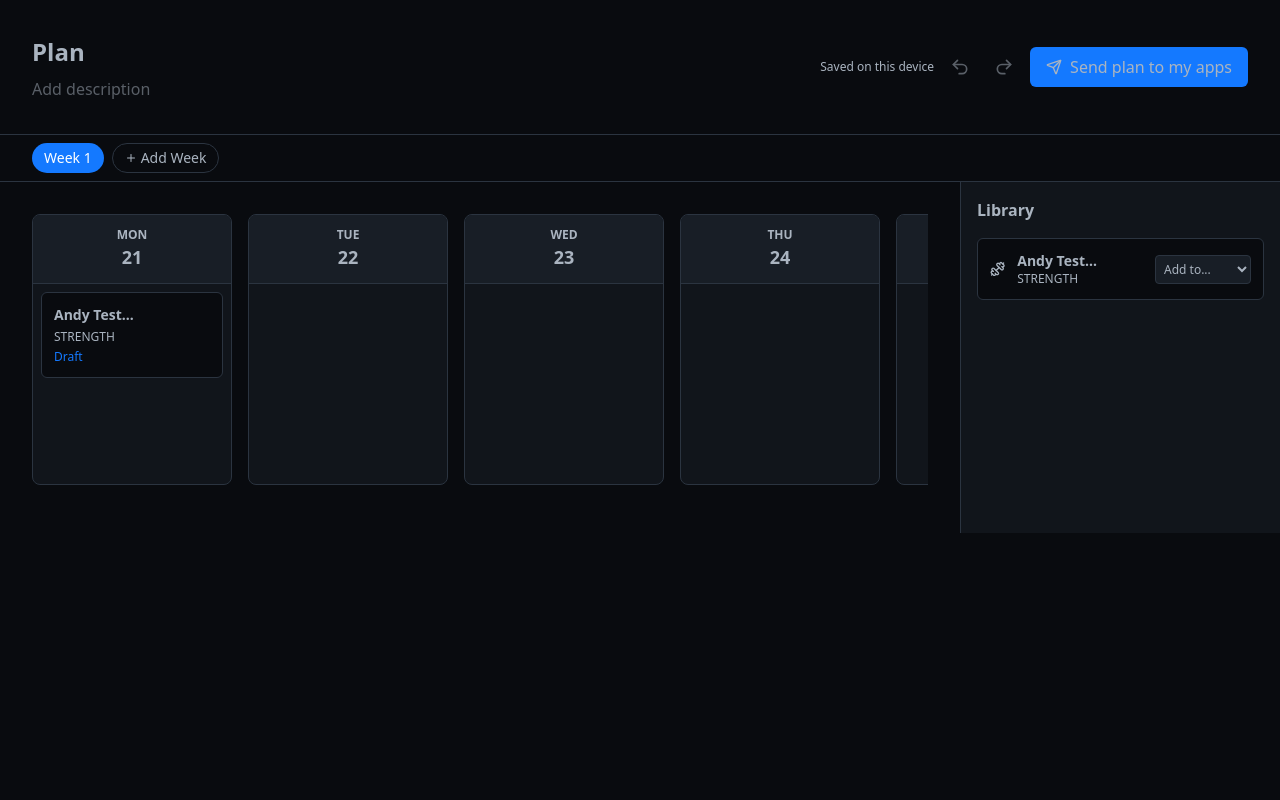
Test: Plan Send journey › keeps transient delivery failures retryable
Expected: the field showing "Plan" is shown, [32, 32, 631, 73]
Click the button "Send plan to my apps" at point(1139, 67), box [1030, 47, 1248, 87]
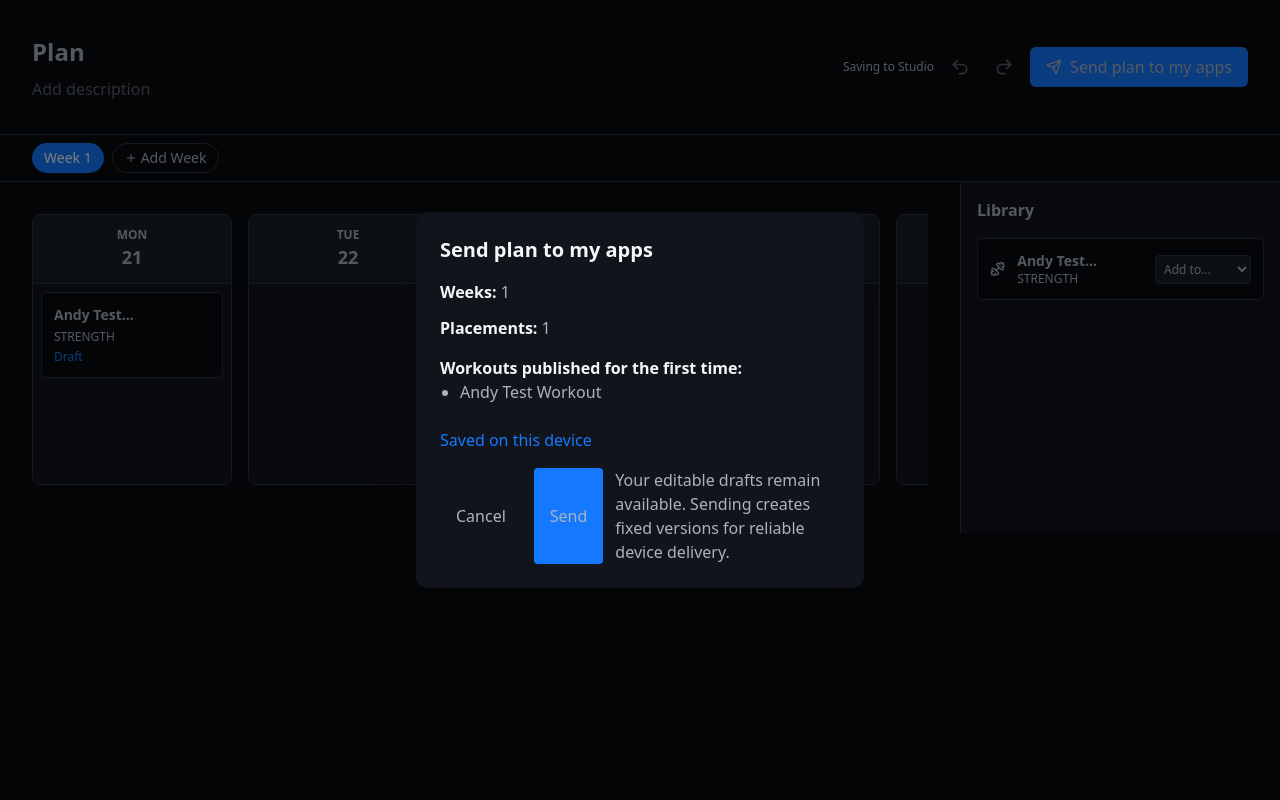
Click the button "Send" at point(569, 516), box [534, 468, 603, 564]
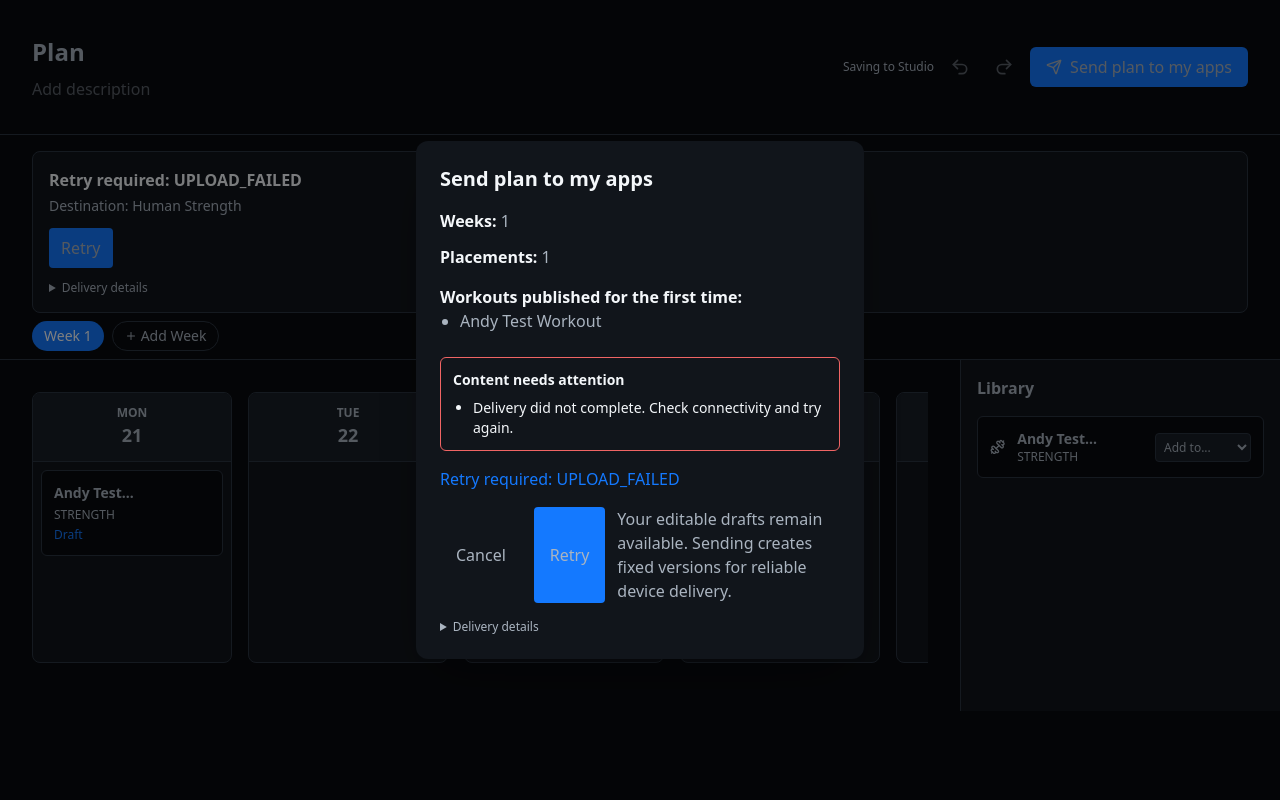
Expected: the heading "Retry required: UPLOAD_FAILED" is shown, [49, 169, 302, 191]
Expected: the button "Retry" is shown, [534, 507, 605, 603]
